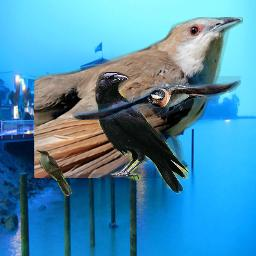Crow: (95, 72, 190, 194)
Cuckoo: (34, 17, 243, 178), (36, 149, 72, 196)
Swallow: (72, 76, 241, 120)
